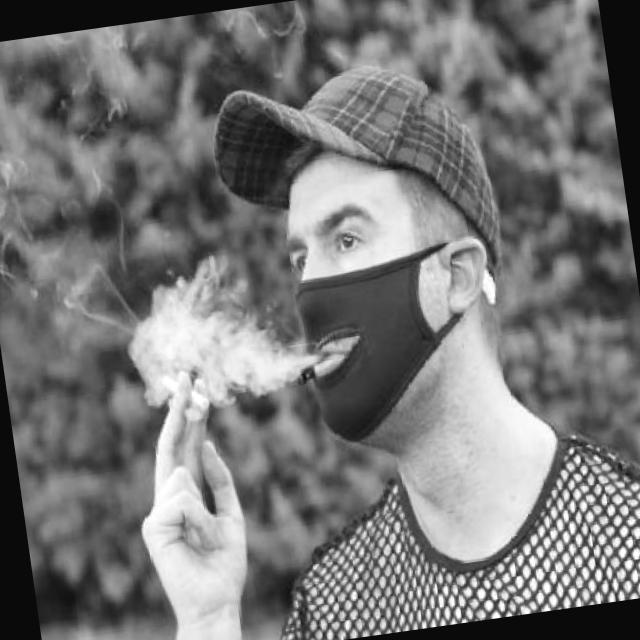cigarette: (130, 334, 220, 432)
